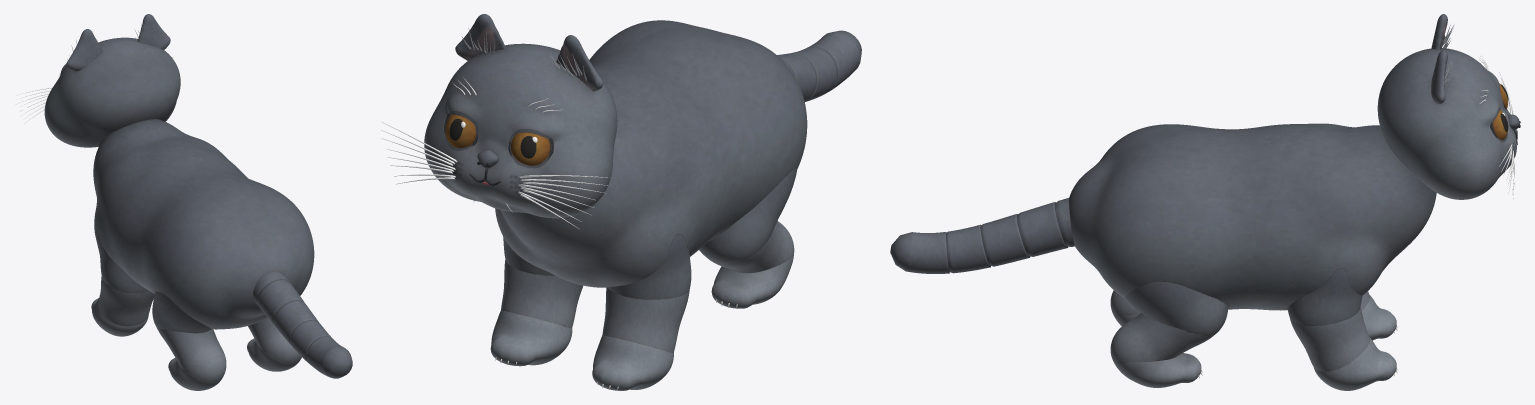
The model's file is cat-cat.glb.
3 views of the same model, side by side, from view 1: azimuth 30°, elevation 25°; view 2: azimuth 150°, elevation 25°; view 3: azimuth 270°, elevation 25° (orthographic). The views are drawn at different scales.
Visible parts, largest first — view 1: Cat__Hips, Cat__Head, Cat__Chest, Cat__BackLLow, Cat__FrontLLow, Cat__Tail5, Cat__BackLUp, Cat__BackRLow, Cat__Tail2, Cat__FrontLUp, Cat__Tail3, Cat__EarL (+7 smaller); view 2: Cat__Chest, Cat__Head, Cat__Hips, Cat__FrontLLow, Cat__FrontRLow, Cat__FrontRPaw, Cat__FrontLPaw, Cat__BackLUp, Cat__BackLPaw, Cat__FrontLUp, Cat__Whiskers, Cat__BackLLow (+8 smaller); view 3: Cat__Hips, Cat__Chest, Cat__Head, Cat__BackRUp, Cat__BackRLow, Cat__FrontRLow, Cat__FrontRUp, Cat__Tail5, Cat__FrontRPaw, Cat__BackRPaw, Cat__Tail2, Cat__Tail3 (+4 smaller).
Part boxes in pixels (x1,y1,x2,y2): Cat__Hips: [129, 161, 314, 329]; Cat__Head: [44, 37, 180, 147]; Cat__Chest: [93, 119, 244, 291]; Cat__BackLLow: [157, 328, 226, 381]; Cat__FrontLLow: [98, 276, 154, 326]; Cat__Tail5: [306, 336, 352, 378]; Cat__BackLUp: [152, 291, 211, 333]; Cat__BackRLow: [248, 318, 300, 362]; Cat__Tail2: [257, 279, 304, 325]; Cat__FrontLUp: [95, 230, 148, 293]; Cat__Tail3: [274, 300, 318, 345]; Cat__EarL: [66, 29, 102, 71]; Cat__Chest: [495, 63, 730, 287]; Cat__Head: [424, 43, 617, 218]; Cat__Hips: [589, 20, 807, 241]; Cat__FrontLLow: [602, 287, 689, 352]; Cat__FrontRLow: [501, 260, 582, 327]; Cat__FrontRPaw: [490, 310, 572, 366]; Cat__FrontLPaw: [592, 335, 673, 390]; Cat__BackLUp: [699, 168, 797, 264]; Cat__BackLPaw: [711, 255, 793, 308]; Cat__FrontLUp: [608, 234, 691, 299]; Cat__Whiskers: [381, 77, 610, 229]; Cat__BackLLow: [709, 221, 794, 273]; Cat__Hips: [1069, 124, 1255, 309]; Cat__Chest: [1255, 123, 1436, 310]; Cat__Head: [1377, 48, 1516, 199]; Cat__BackRUp: [1125, 281, 1228, 336]; Cat__BackRLow: [1110, 313, 1212, 363]; Cat__FrontRLow: [1290, 307, 1369, 371]; Cat__FrontRUp: [1287, 268, 1362, 325]; Cat__Tail5: [890, 232, 949, 273]; Cat__FrontRPaw: [1313, 337, 1396, 390]; Cat__BackRPaw: [1114, 353, 1201, 387]; Cat__Tail2: [1017, 202, 1068, 256]; Cat__Tail3: [980, 214, 1029, 266].
Bounding box in the file's own units: 45.21 × 73.45 × 126.
51 materials, 24 textured.
